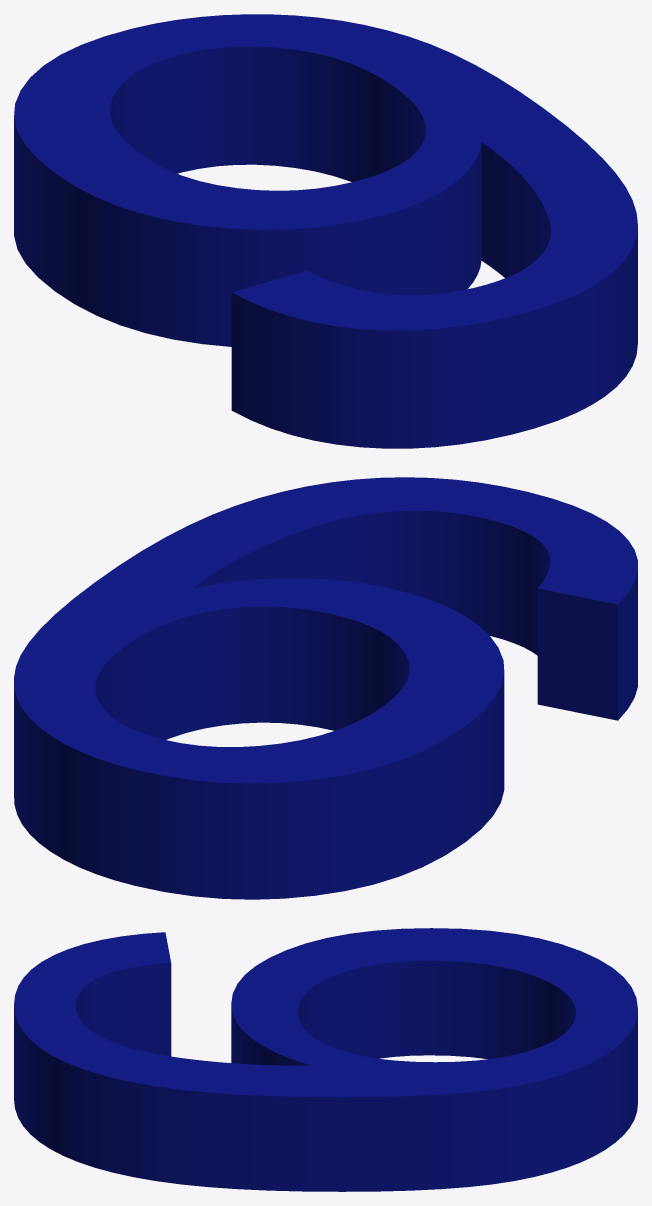
The picture shows the model from 3 angles, top to bottom: view 1: azimuth 30°, elevation 25°; view 2: azimuth 150°, elevation 25°; view 3: azimuth 270°, elevation 25°; orthographic projection. The views are drawn at different scales.
Visible parts, largest first — view 1: TextPlus061; view 2: TextPlus061; view 3: TextPlus061.
Boxes of the visible parts, x1,y1,x2,y2 form: TextPlus061: [14, 14, 637, 448]; TextPlus061: [14, 477, 637, 899]; TextPlus061: [14, 928, 637, 1191].
Size of the model in its own units: 16.8 by 4.38 by 26.2.
